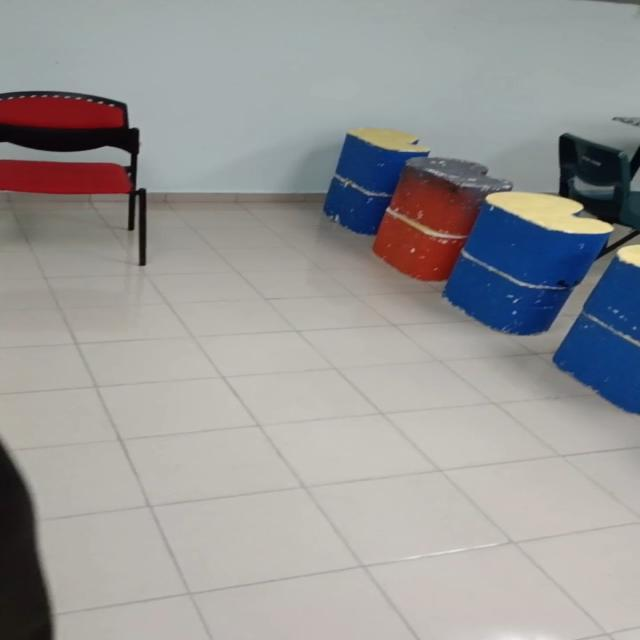sandalye: (0, 92, 146, 266)
